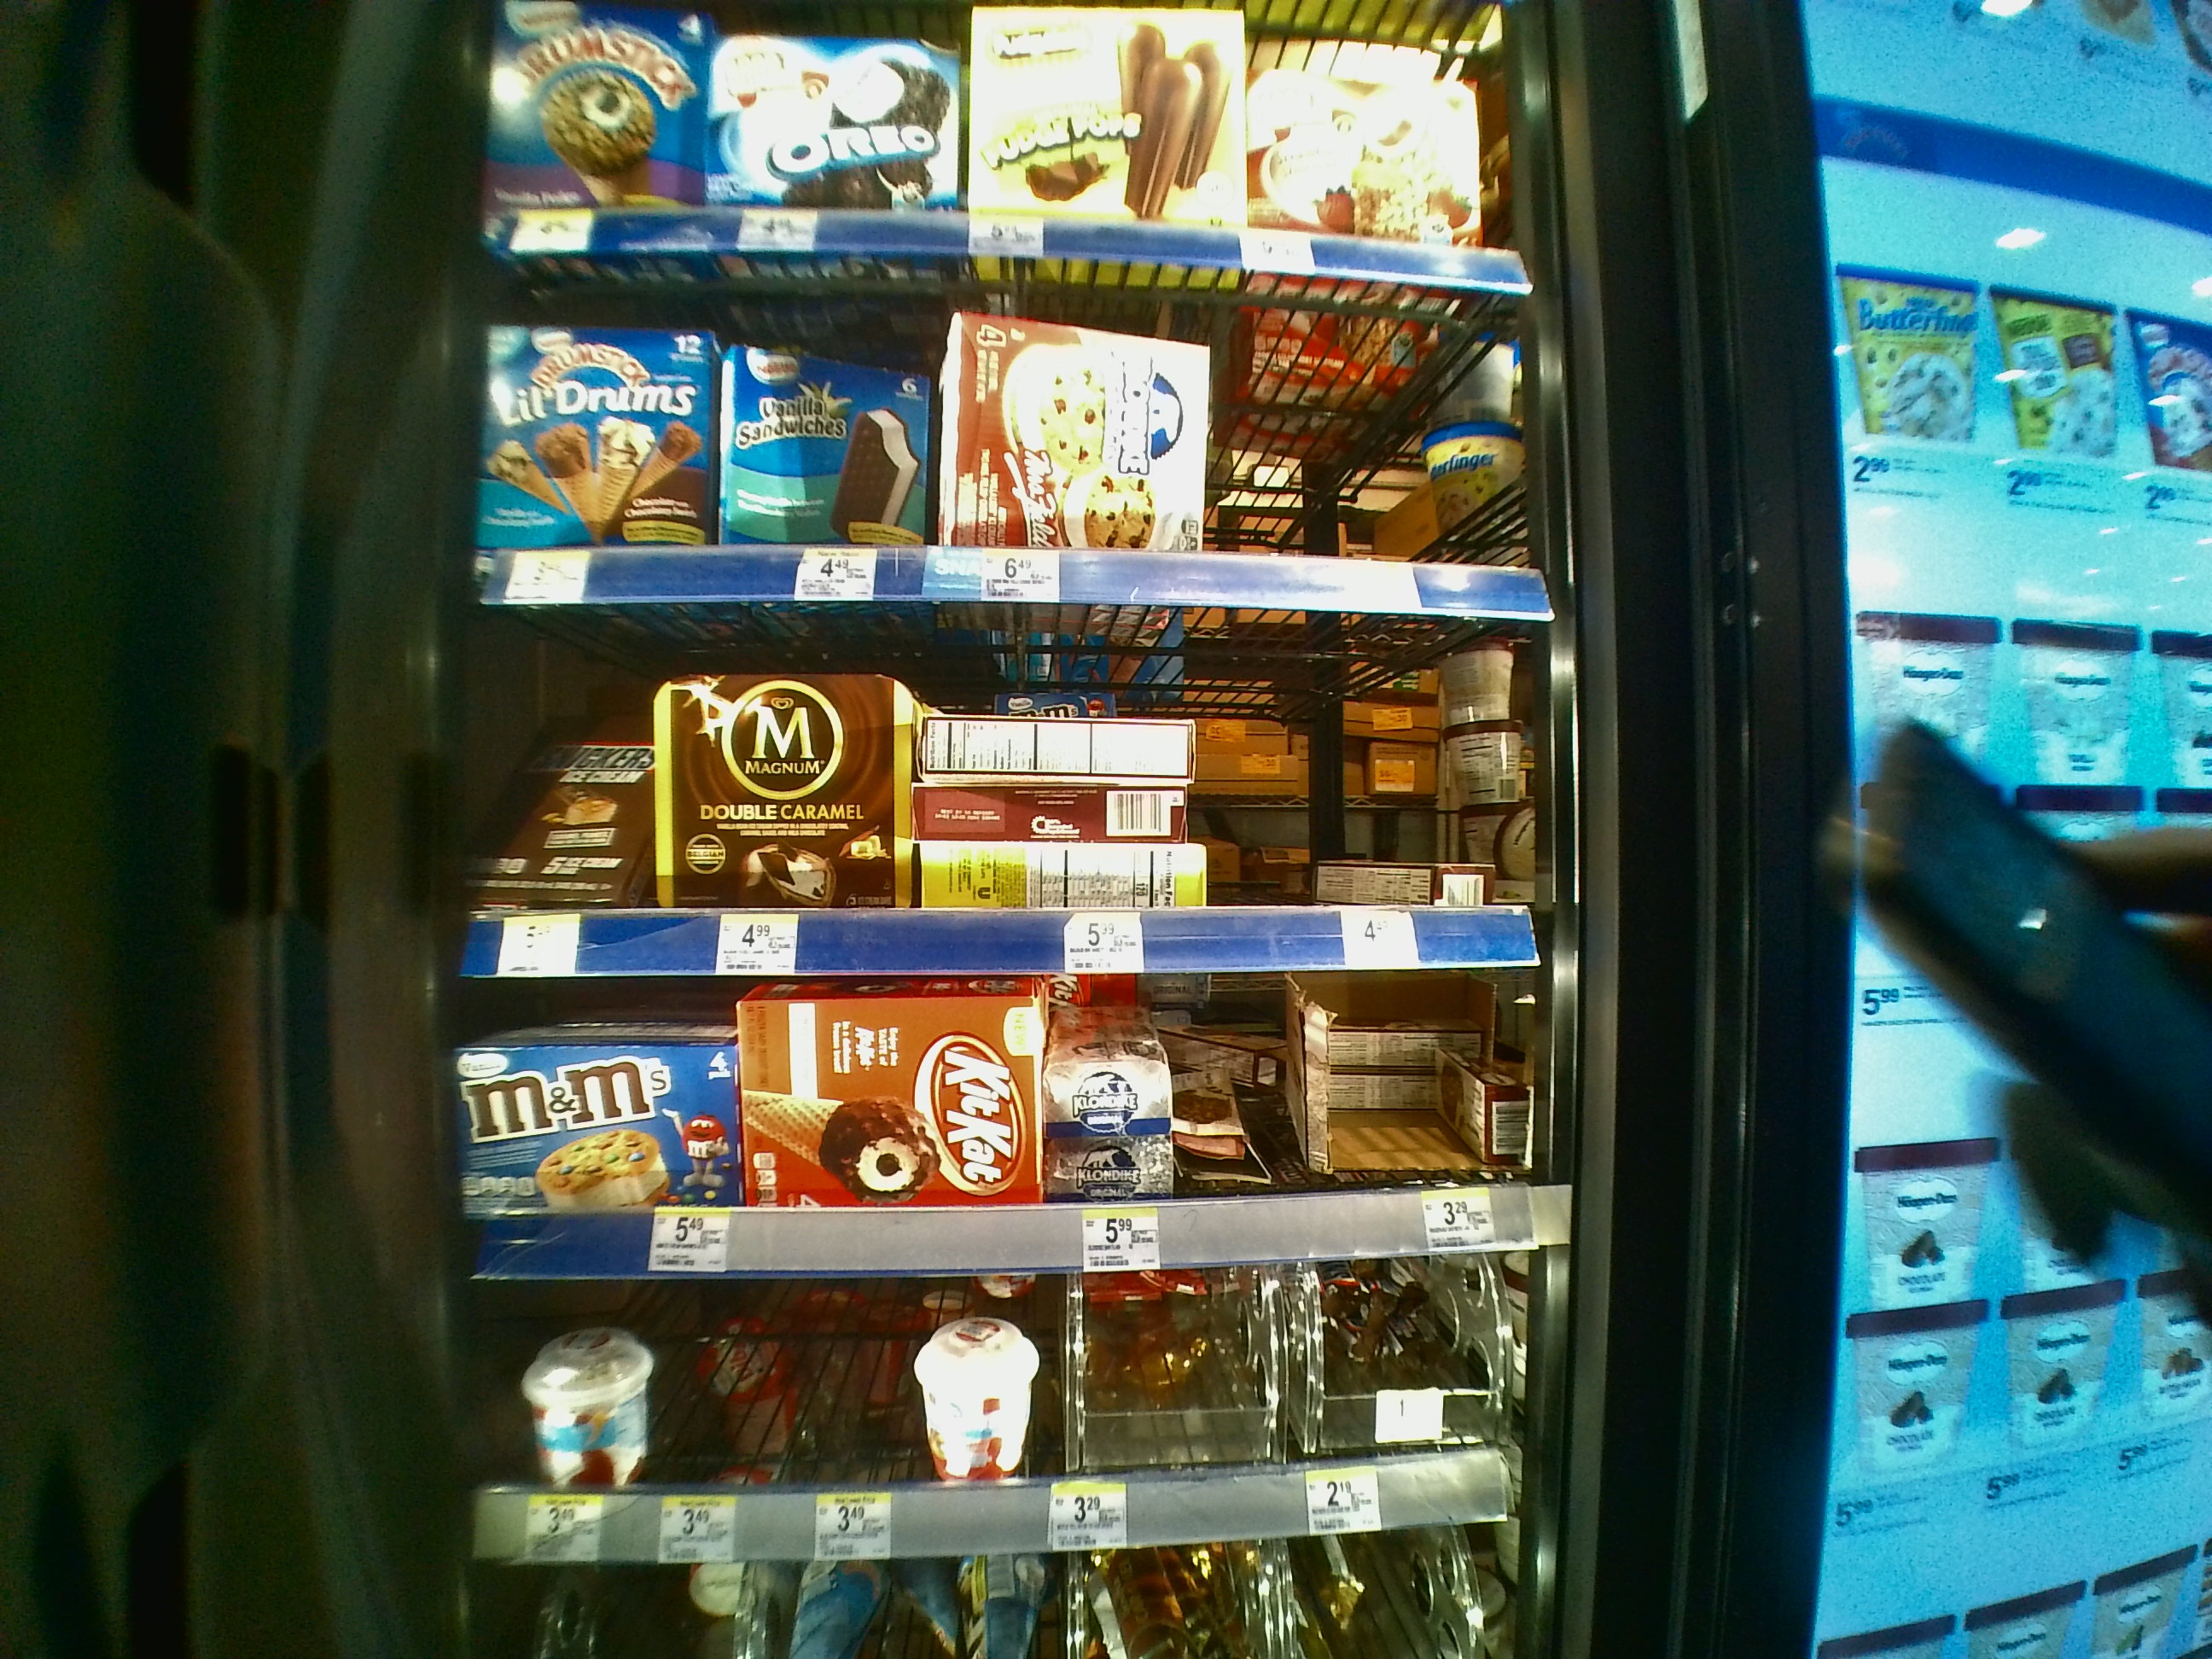shelf: (460, 612, 1533, 972), (474, 254, 1538, 603), (462, 979, 1555, 1276), (469, 1284, 1548, 1561)
